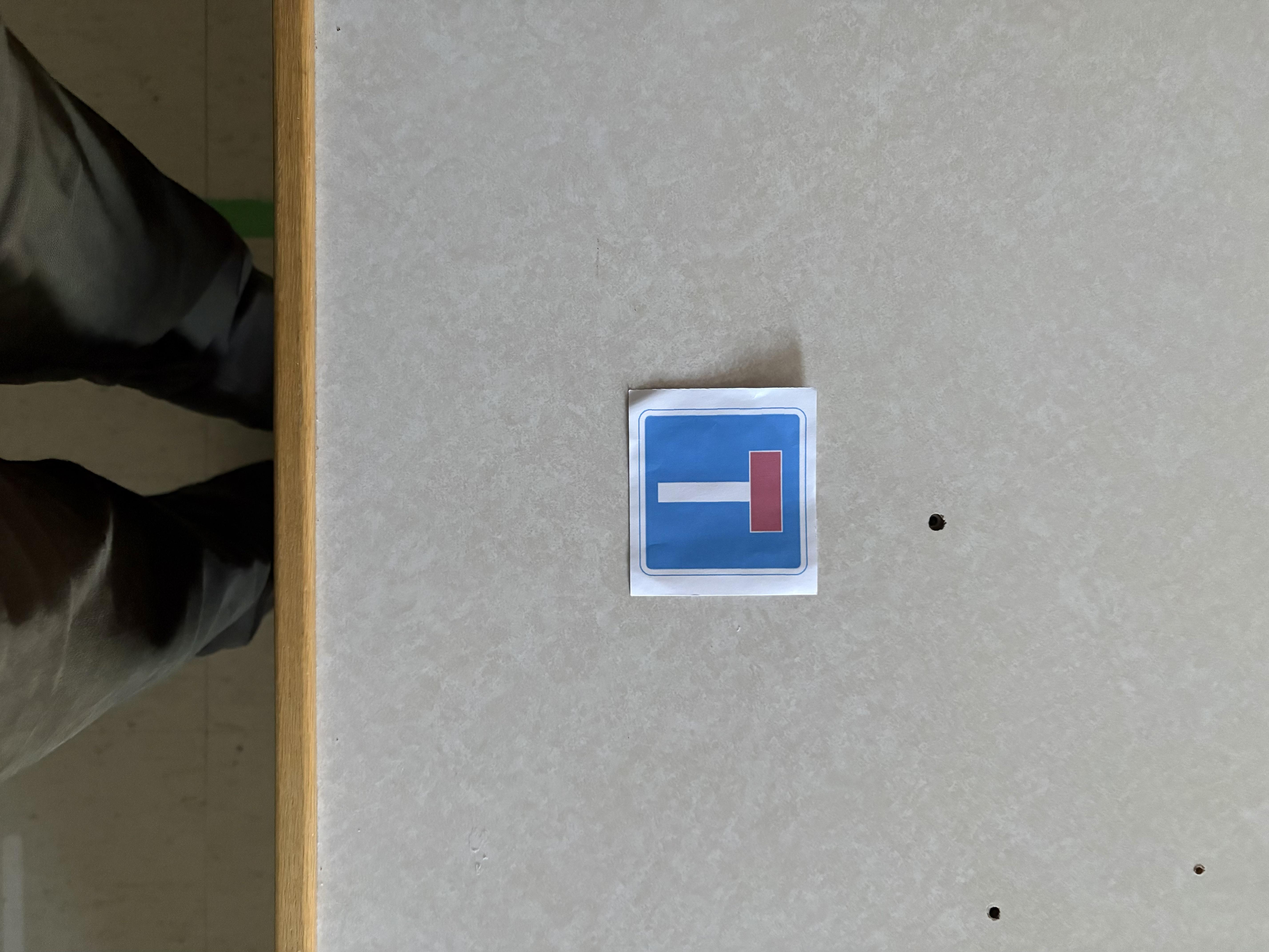Dead End: (622, 390, 819, 601)
